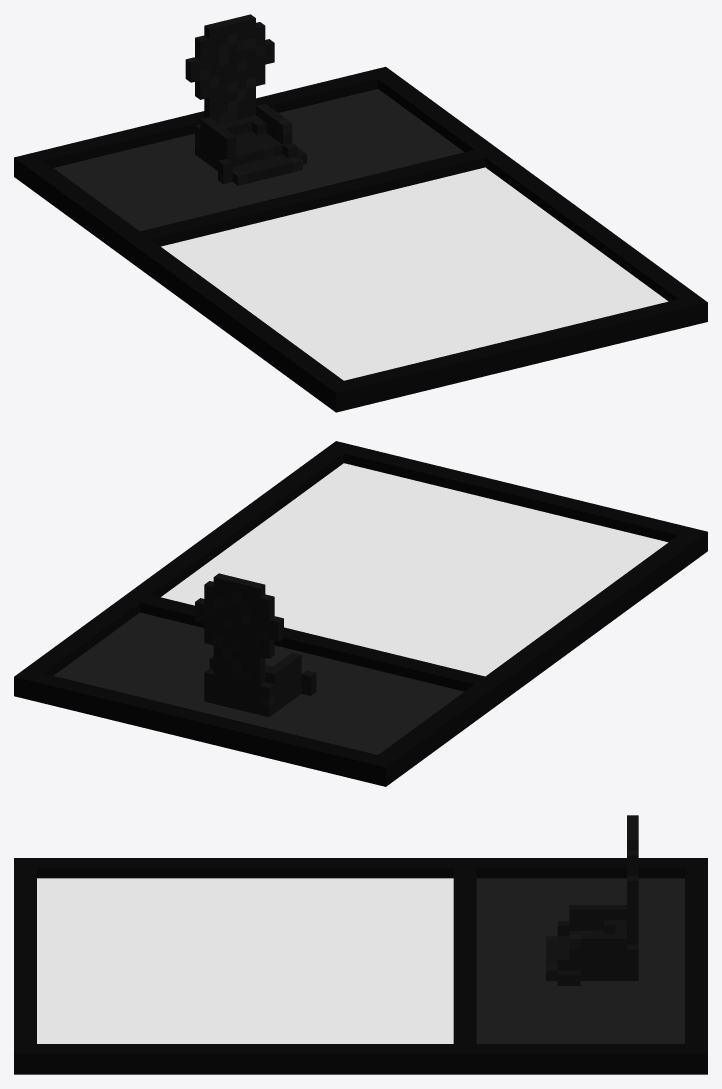
Rendered from tile6.obj.
3 renders of one model, top to bottom at view 1: azimuth 30°, elevation 25°; view 2: azimuth 150°, elevation 25°; view 3: azimuth 270°, elevation 25°, orthographic. The views are drawn at different scales.
Size of the model in its own units: 4 by 1.4 by 6.
1 material, 1 textured.
